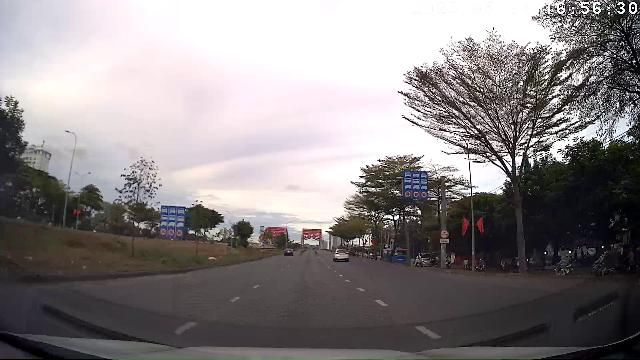127-toc-do-toi-da-60: (404, 191, 411, 197), (413, 191, 419, 198), (421, 192, 427, 198)
